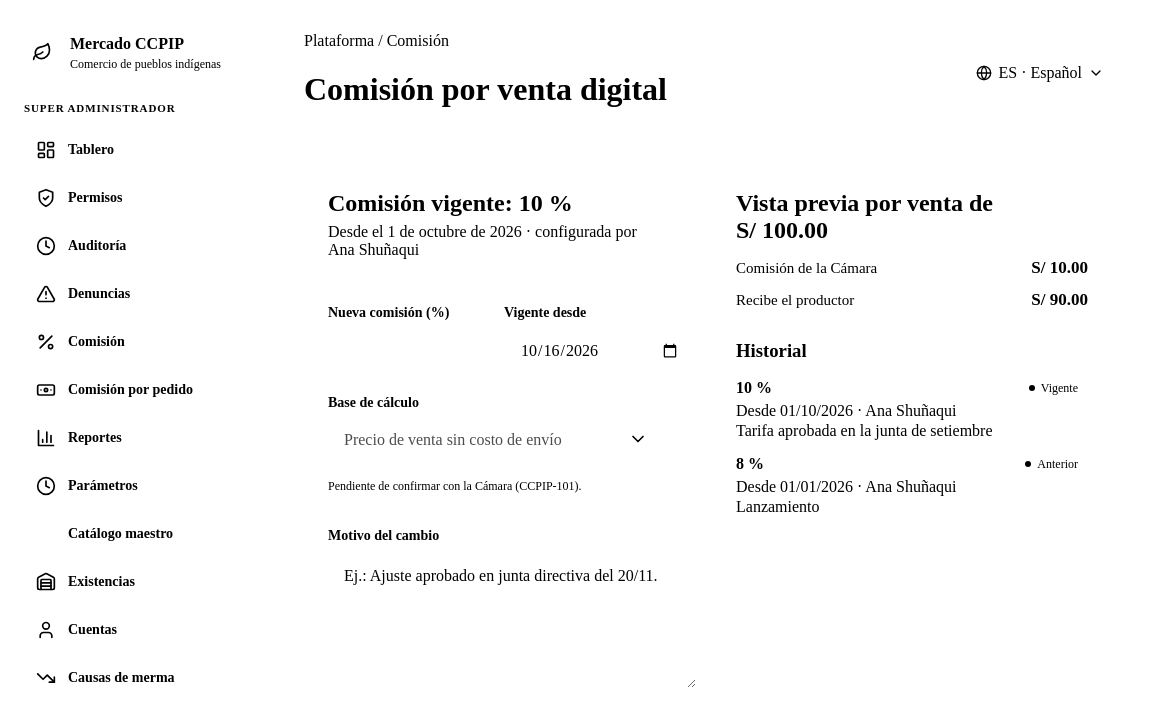
Test: SA-02 Comisión (CCPIP-90) › con la fecha de hoy el cambio rige de inmediato
Type "12" into the field labelled "Nueva comisión (%)" at [424, 350], box [328,329,520,371]
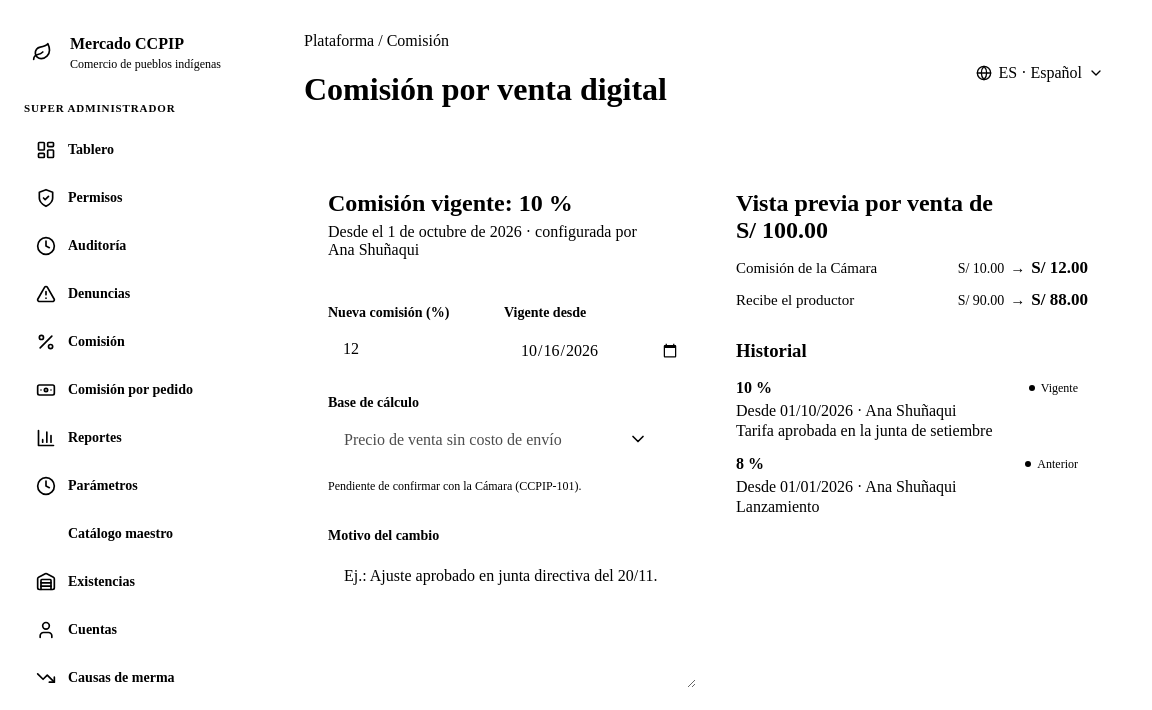
Type "Junta" into the text box labelled "Motivo del cambio" at [512, 620], box [328,552,696,688]
(page scrolled)
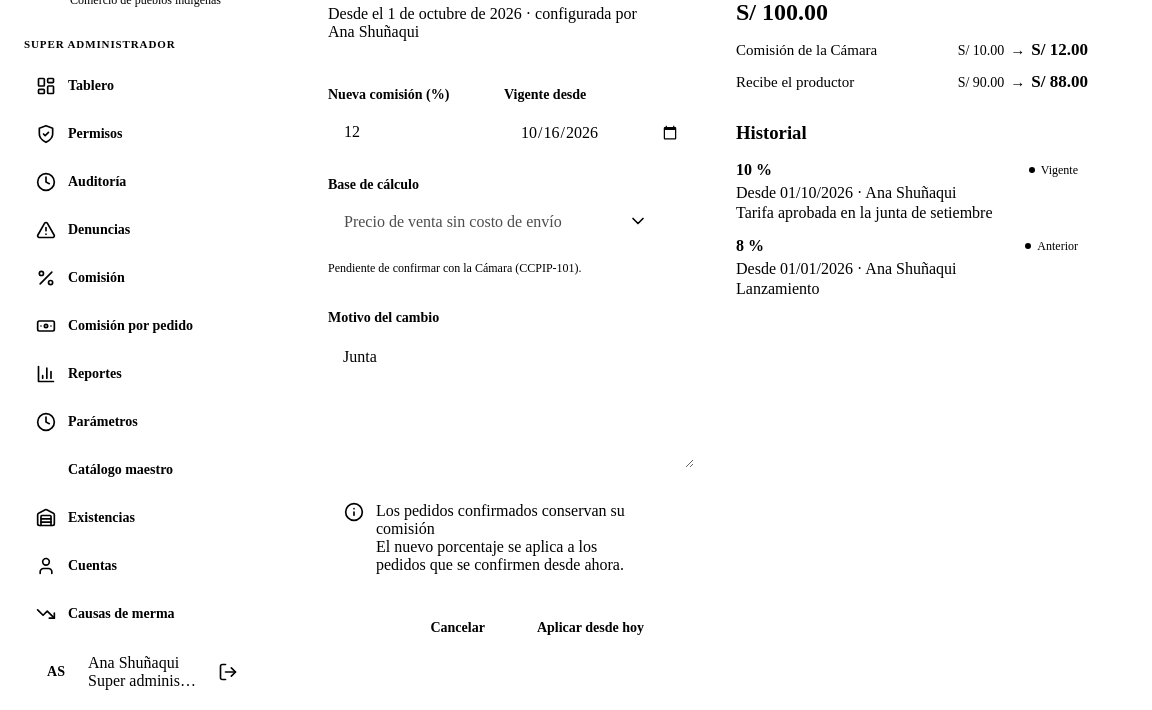
Click the button "Aplicar desde hoy" at [590, 628], box [517,608,664,648]
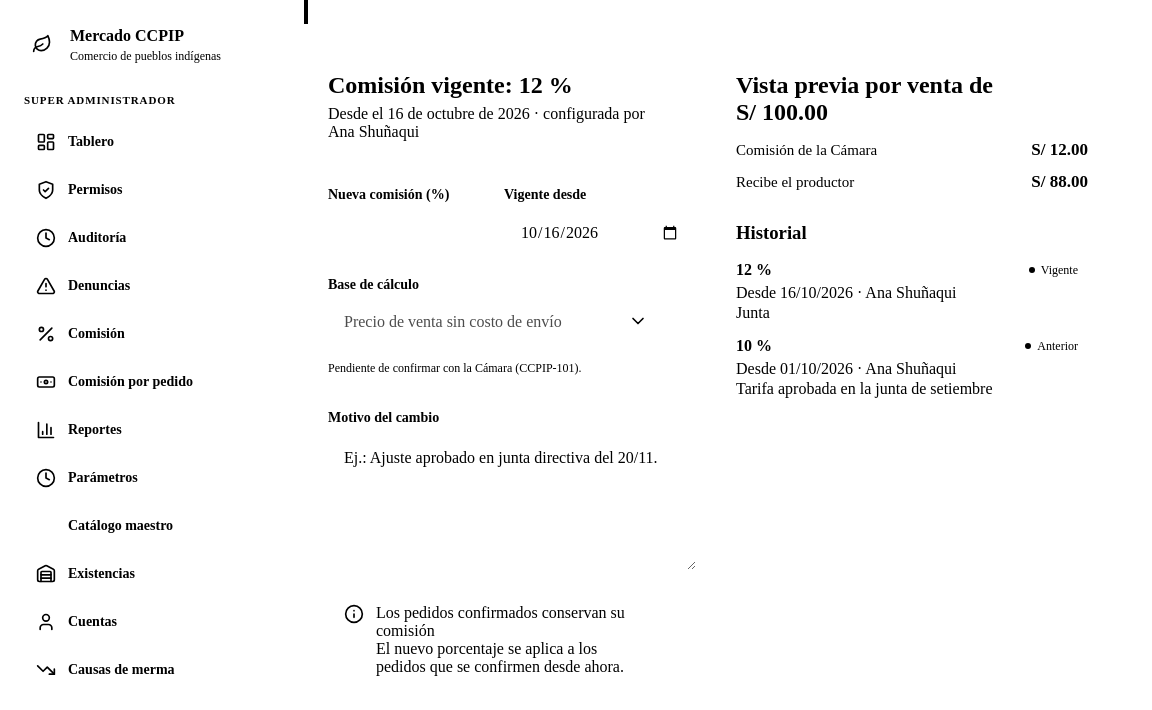
Result: the heading "Comisión vigente: 12 %" is shown at [328,72,573,98]
Result: the field labelled "Nueva comisión (%)" is empty at [328,211,520,253]
